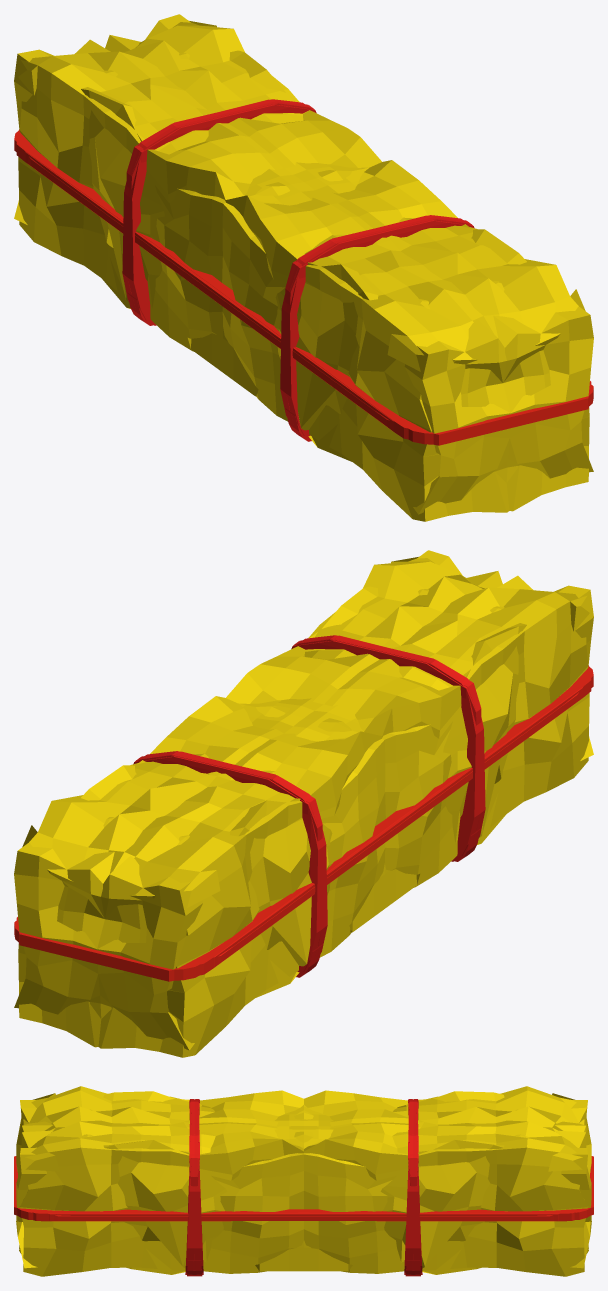
File: saman (1).fbx
The picture shows the model from 3 angles, top to bottom: view 1: azimuth 30°, elevation 25°; view 2: azimuth 150°, elevation 25°; view 3: azimuth 270°, elevation 25°; orthographic projection. The views are drawn at different scales.
Parts seen in each view (by area): view 1: Cube; view 2: Cube; view 3: Cube.
Part boxes in pixels (x1,y1,x2,y2): Cube: (14, 14, 593, 521); Cube: (14, 550, 593, 1057); Cube: (14, 1086, 593, 1276).
Bounding box in the file's own units: 252 × 232 × 898.
